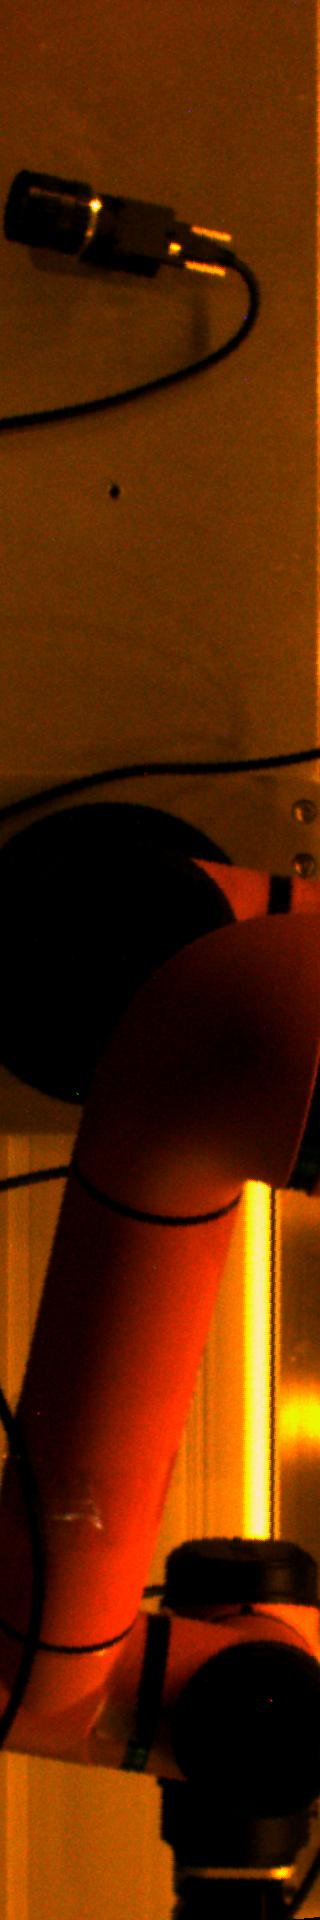keyPoint_2: (99, 478, 129, 508)
